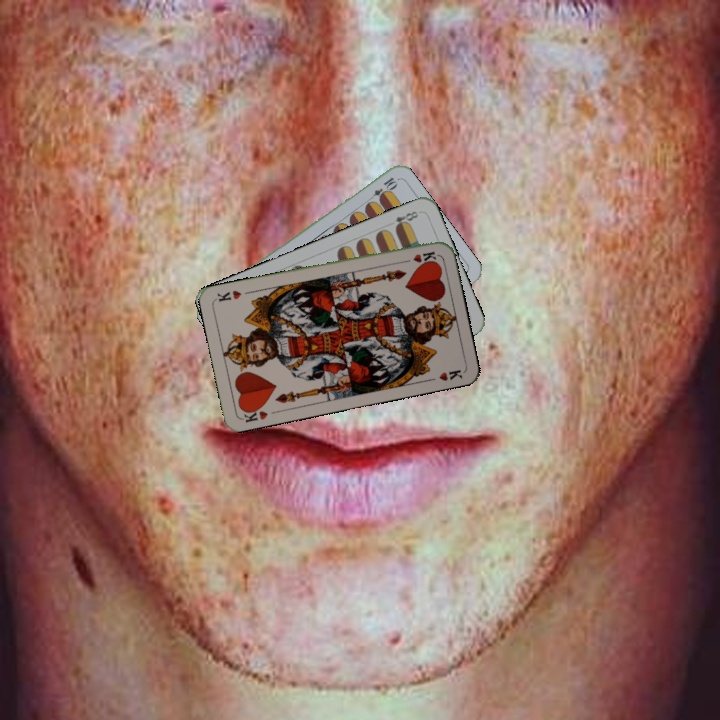E10: (364, 173, 400, 205)
E8: (391, 207, 421, 232)
HK: (399, 247, 439, 266), (238, 402, 270, 425)
